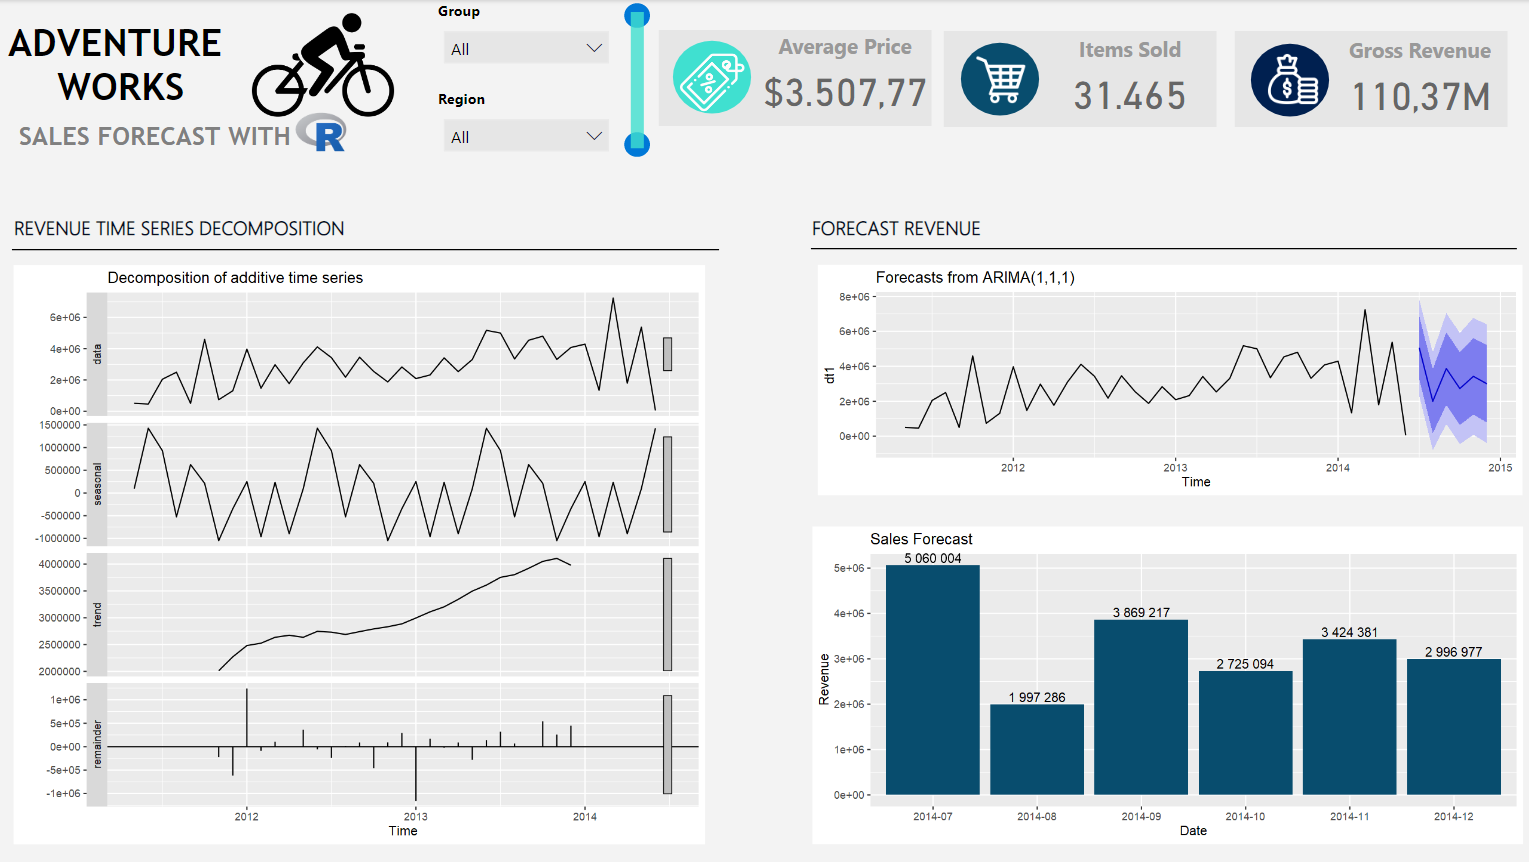

The page's visual inventory and layout, read from the dashboard file:
{"tool":"powerbi","page":{"name":"Revenue","canvas":[1280,720],"ordinal":0},"visuals":[{"type":"basicShape","box":[520.4,0,27.2,26.2],"z":0,"group":"g1"},{"type":"textbox","box":[0,11.7,202.2,84.6],"z":0},{"type":"basicShape","box":[559.8,31.1,71.9,67.1],"z":0,"group":"g2"},{"type":"basicShape","box":[800.9,33,71.9,67.1],"z":0,"group":"g3"},{"type":"basicShape","box":[1043.8,33.3,71.9,67.1],"z":0,"group":"g4"},{"type":"image","box":[201.2,5.8,139,97.2],"z":1000},{"type":"image","box":[563.7,31.1,64.1,74.8],"z":1000,"group":"g2"},{"type":"image","box":[1056.6,34.9,52.5,62.2],"z":1000,"group":"g4"},{"type":"image","box":[804.8,41.3,64.1,50.5],"z":1000,"group":"g3"},{"type":"basicShape","box":[520.4,107.9,27.2,26.2],"z":1000,"group":"g1"},{"type":"basicShape","box":[519.4,0,29.2,134.1],"z":2000,"group":"g1"},{"type":"textbox","box":[10.9,96.3,180,37.7],"z":2000},{"type":"group","id":"g1","title":"Group 1","box":[519.4,0,29.3,134.1],"z":3000},{"type":"slicer","title":"Group","fields":{"Values":["fSalesDetails.Group"]},"box":[361.5,0,158.4,61.2],"z":4000},{"type":"slicer","title":"Region","fields":{"Values":["fSalesDetails.Name"]},"box":[361.5,73.9,158.4,67.1],"z":5000},{"type":"basicShape","box":[549.1,24.3,233.3,81.6],"z":6000},{"type":"card","title":"Average Price","fields":{"Values":["#Measure.AveragePrice"]},"box":[631.7,26.2,150.6,73.9],"z":7000},{"type":"group","id":"g2","title":"Group 2","box":[559.8,31.1,71.9,74.8],"z":8000},{"type":"basicShape","box":[788.2,25.3,233.3,81.6],"z":9000},{"type":"group","id":"g3","title":"Group 2","box":[800.9,33,71.9,67.1],"z":10000},{"type":"card","title":"Qty. Items Sold","fields":{"Values":["#Measure.Ticket"]},"box":[870.8,28.2,150.6,73.9],"z":11000},{"type":"basicShape","box":[1031.2,25.3,233.3,81.6],"z":12000},{"type":"card","title":"Gross Revenue","fields":{"Values":["#Measure.GrossRevenue"]},"box":[1113.8,29.2,150.6,73.9],"z":13000},{"type":"group","id":"g4","title":"Group 2","box":[1043.8,33.3,71.9,67.1],"z":14000},{"type":"areaChart","title":"Revenue and Profit per date","fields":{"Category":["fSalesDetails.Date.Variation.Date Hierarchy.Year","fSalesDetails.Date.Variation.Date Hierarchy.Quarter","fSalesDetails.Date.Variation.Date Hierarchy.Month","fSalesDetails.Date.Variation.Date Hierarchy.Day"],"Y":["#Measure.Revenue","#Measure.Profit"]},"box":[0,236.2,587.9,248.2],"z":15000},{"type":"clusteredColumnChart","title":"Qty. Items Sold and Average Price per date","fields":{"Category":["fSalesDetails.Date.Variation.Date Hierarchy.Year","fSalesDetails.Date.Variation.Date Hierarchy.Quarter","fSalesDetails.Date.Variation.Date Hierarchy.Month","fSalesDetails.Date.Variation.Date Hierarchy.Day"],"Y":["#Measure.Ticket","#Measure.AveragePrice"]},"box":[0,494,588,226],"z":16000},{"type":"textbox","box":[7.1,175.1,193.8,33.8],"z":17000},{"type":"basicShape","box":[0,194.7,611.6,27.6],"z":18000},{"type":"basicShape","box":[668.9,194.2,611.2,27.6],"z":19000},{"type":"textbox","box":[674.8,175,194.2,33.5],"z":20000},{"type":"decompositionTreeVisual","title":"Profit by Category and Subcategory","fields":{"ExplainBy":["fSalesDetails.Category","fSalesDetails.SubCategory"],"Analyze":["#Measure.Profit"]},"box":[674.9,236.2,605.1,483.6],"z":21500},{"type":"actionButton","title":"Revenue Off","box":[680.9,211.2,75.9,19.8],"z":22000},{"type":"actionButton","title":"Profit On","box":[760.8,210.8,75.9,19.8],"z":24000}]}

Visuals, with their boxes in screenshot pixels (x1, y1, x2, y2), scaled from the page's 1280x720 canvas onto the 1529x862 screenshot:
basicShape: (622, 0, 654, 31)
textbox: (0, 14, 242, 115)
basicShape: (669, 37, 755, 118)
basicShape: (957, 40, 1043, 120)
basicShape: (1247, 40, 1333, 120)
image: (240, 7, 406, 123)
image: (673, 37, 750, 127)
image: (1262, 42, 1325, 116)
image: (961, 49, 1038, 110)
basicShape: (622, 129, 654, 161)
basicShape: (620, 0, 655, 161)
textbox: (13, 115, 228, 160)
"Group 1" group: (620, 0, 655, 161)
"Group" slicer: (432, 0, 621, 73)
"Region" slicer: (432, 88, 621, 169)
basicShape: (656, 29, 935, 127)
"Average Price" card: (755, 31, 934, 120)
"Group 2" group: (669, 37, 755, 127)
basicShape: (942, 30, 1220, 128)
"Group 2" group: (957, 40, 1043, 120)
"Qty. Items Sold" card: (1040, 34, 1220, 122)
basicShape: (1232, 30, 1510, 128)
"Gross Revenue" card: (1330, 35, 1510, 123)
"Group 2" group: (1247, 40, 1333, 120)
"Revenue and Profit per date" areaChart: (0, 283, 702, 580)
"Qty. Items Sold and Average Price per date" clusteredColumnChart: (0, 591, 702, 861)
textbox: (8, 210, 240, 250)
basicShape: (0, 233, 731, 266)
basicShape: (799, 233, 1528, 266)
textbox: (806, 210, 1038, 250)
"Profit by Category and Subcategory" decompositionTreeVisual: (806, 283, 1528, 861)
"Revenue Off" actionButton: (813, 253, 904, 277)
"Profit On" actionButton: (909, 252, 999, 276)
